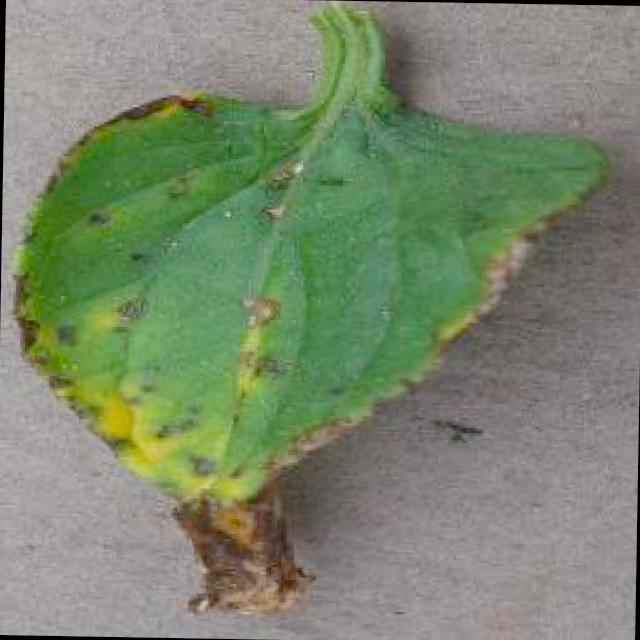Tomato bacterial spot leaf: (5, 82, 618, 626)
